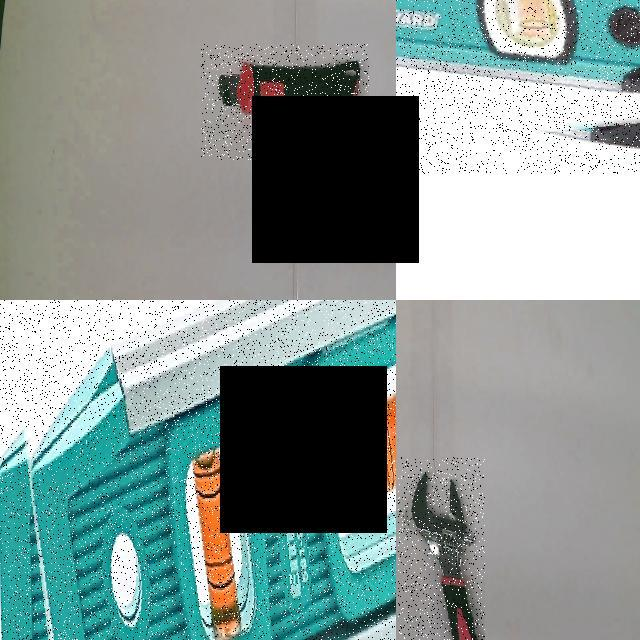estilete: (218, 60, 360, 114)
